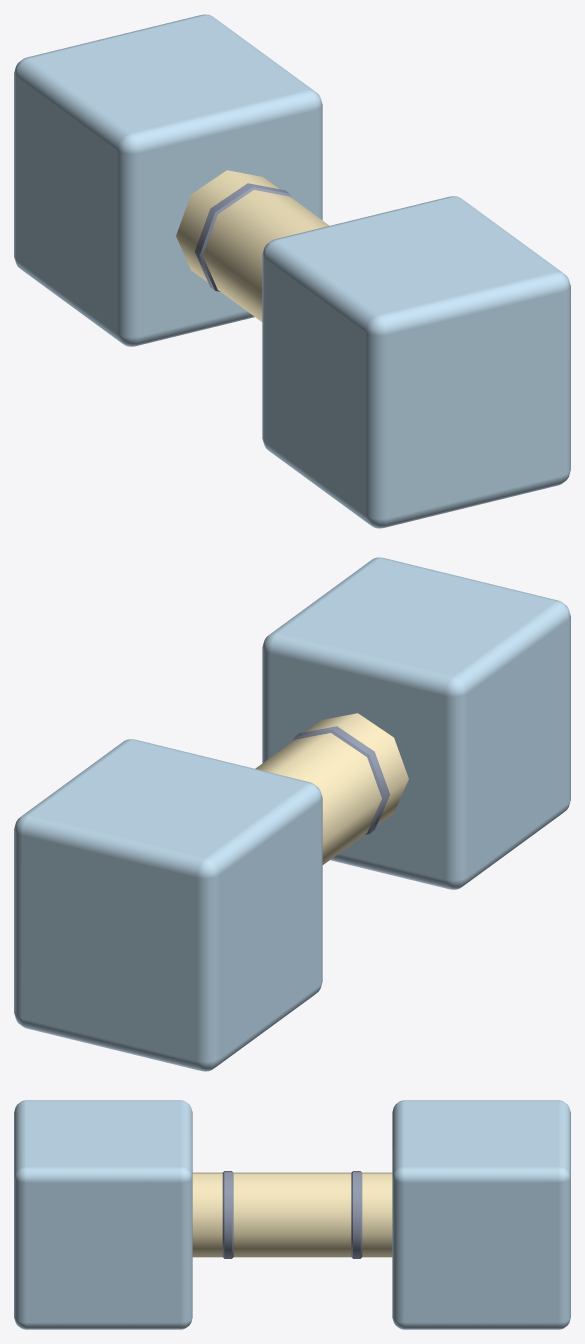
File: R4C_STRUT_STANDARD.glb
The picture shows the model from 3 angles, top to bottom: view 1: azimuth 30°, elevation 25°; view 2: azimuth 150°, elevation 25°; view 3: azimuth 270°, elevation 25°; orthographic projection. The views are drawn at different scales.
Visible parts, largest first — view 1: R4C_STRUT_STANDARD; view 2: R4C_STRUT_STANDARD; view 3: R4C_STRUT_STANDARD.
Boxes of the visible parts, x1,y1,x2,y2 form: R4C_STRUT_STANDARD: [14, 14, 570, 528]; R4C_STRUT_STANDARD: [14, 557, 570, 1071]; R4C_STRUT_STANDARD: [14, 1100, 570, 1329].
Size of the model in its own units: 0.52 by 0.52 by 1.62.
